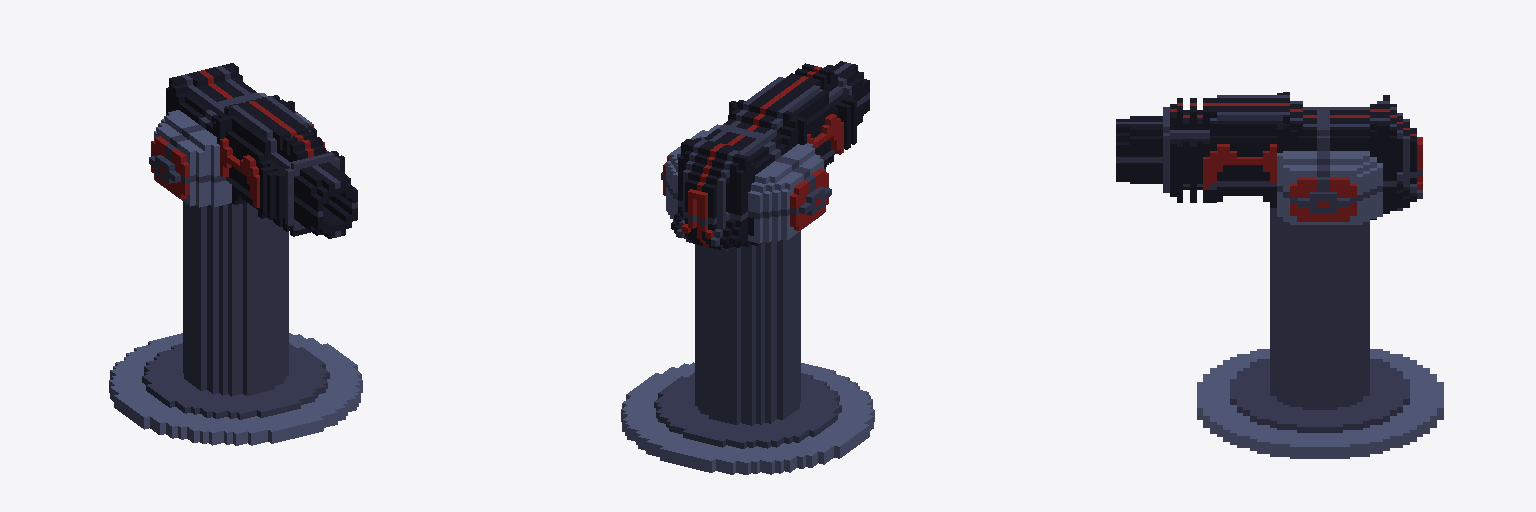
3 renders of one model, left to right at view 1: azimuth 30°, elevation 25°; view 2: azimuth 150°, elevation 25°; view 3: azimuth 270°, elevation 25°, orthographic.
Visible parts, largest first — view 1: object 1; view 2: object 1; view 3: object 1.
Boxes of the visible parts, <box> form: object 1: <box>109,63,362,445</box>; object 1: <box>621,61,874,474</box>; object 1: <box>1116,92,1443,458</box>.
Bounding box in the file's own units: 3.7 × 5 × 4.9.
Materials: 1 (1 with a texture image).